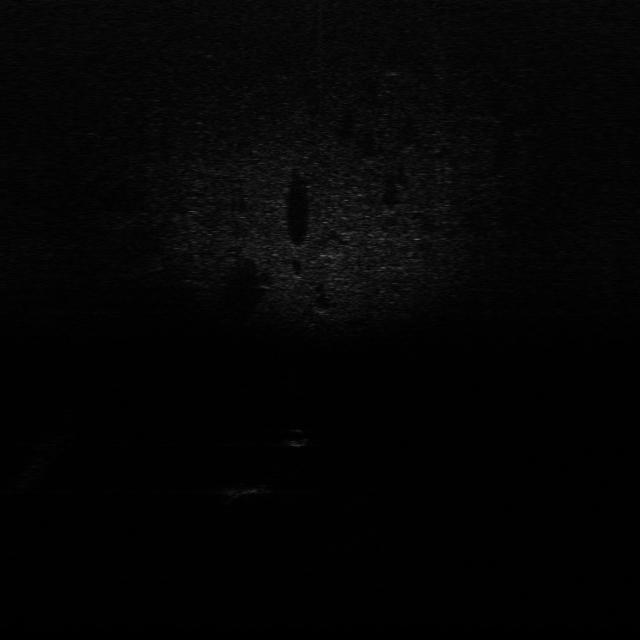ball: (280, 427, 312, 448)
square cage: (212, 478, 273, 500)
